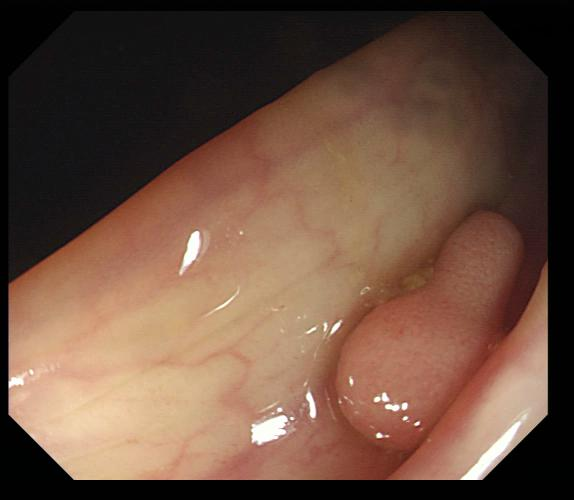polyp: (334, 214, 522, 451)
